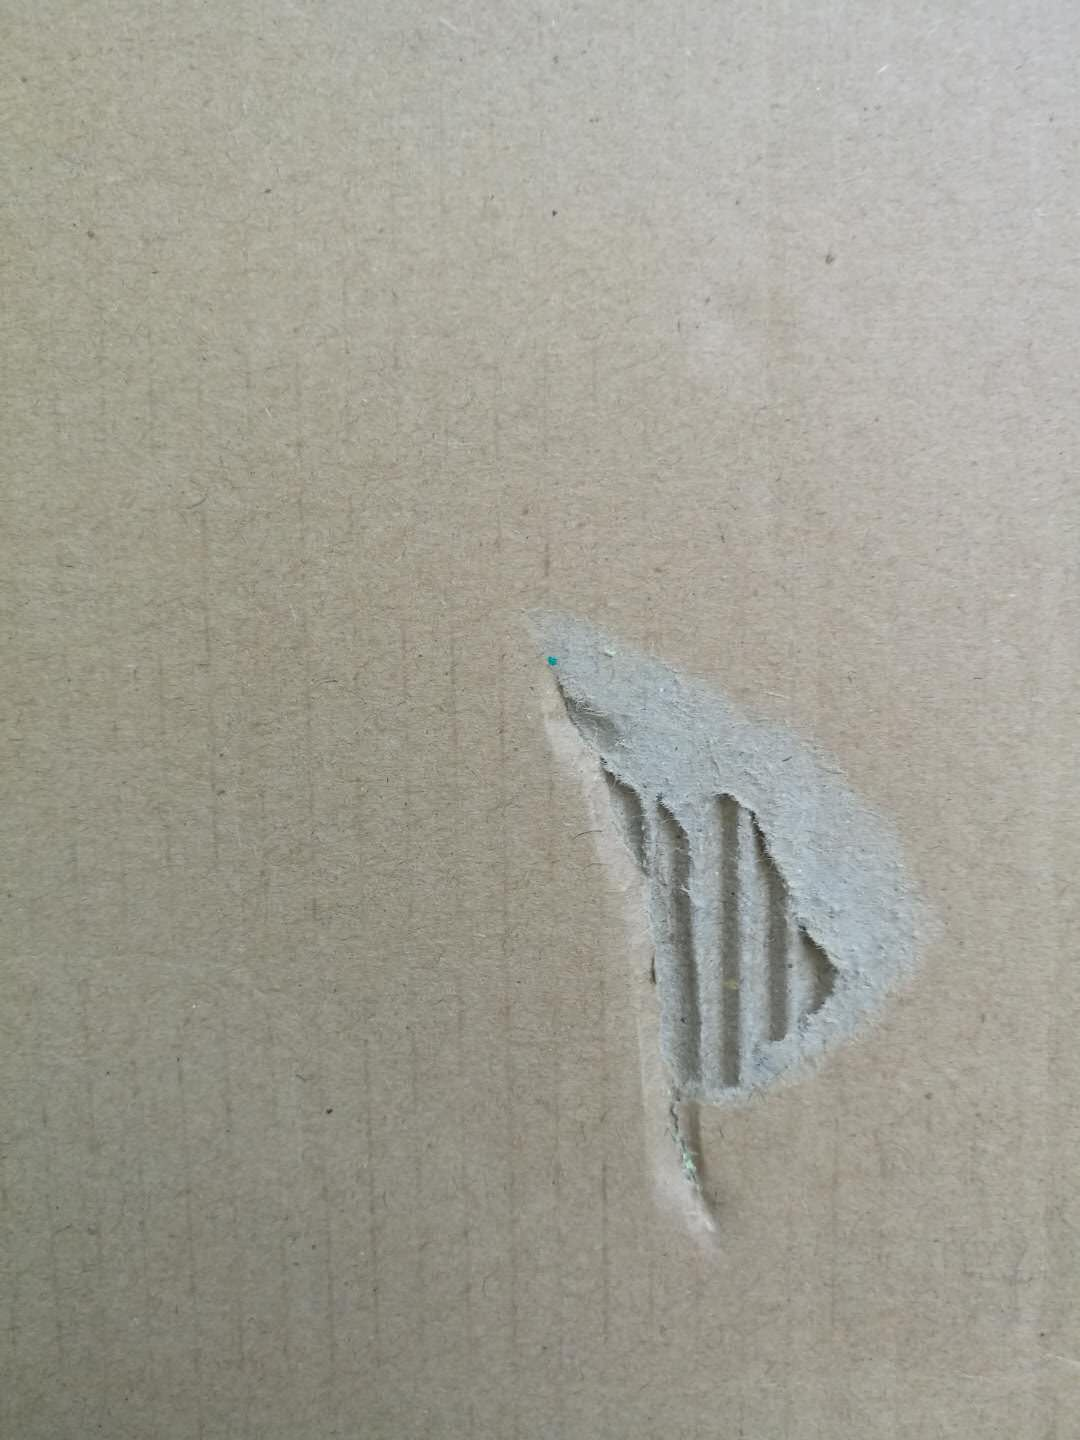defect: (492, 567, 980, 1308)
